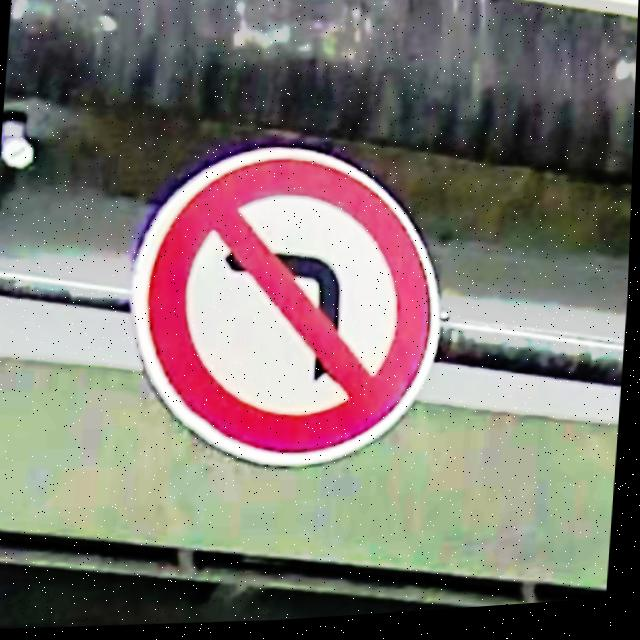noturnleft: (150, 163, 432, 457)
